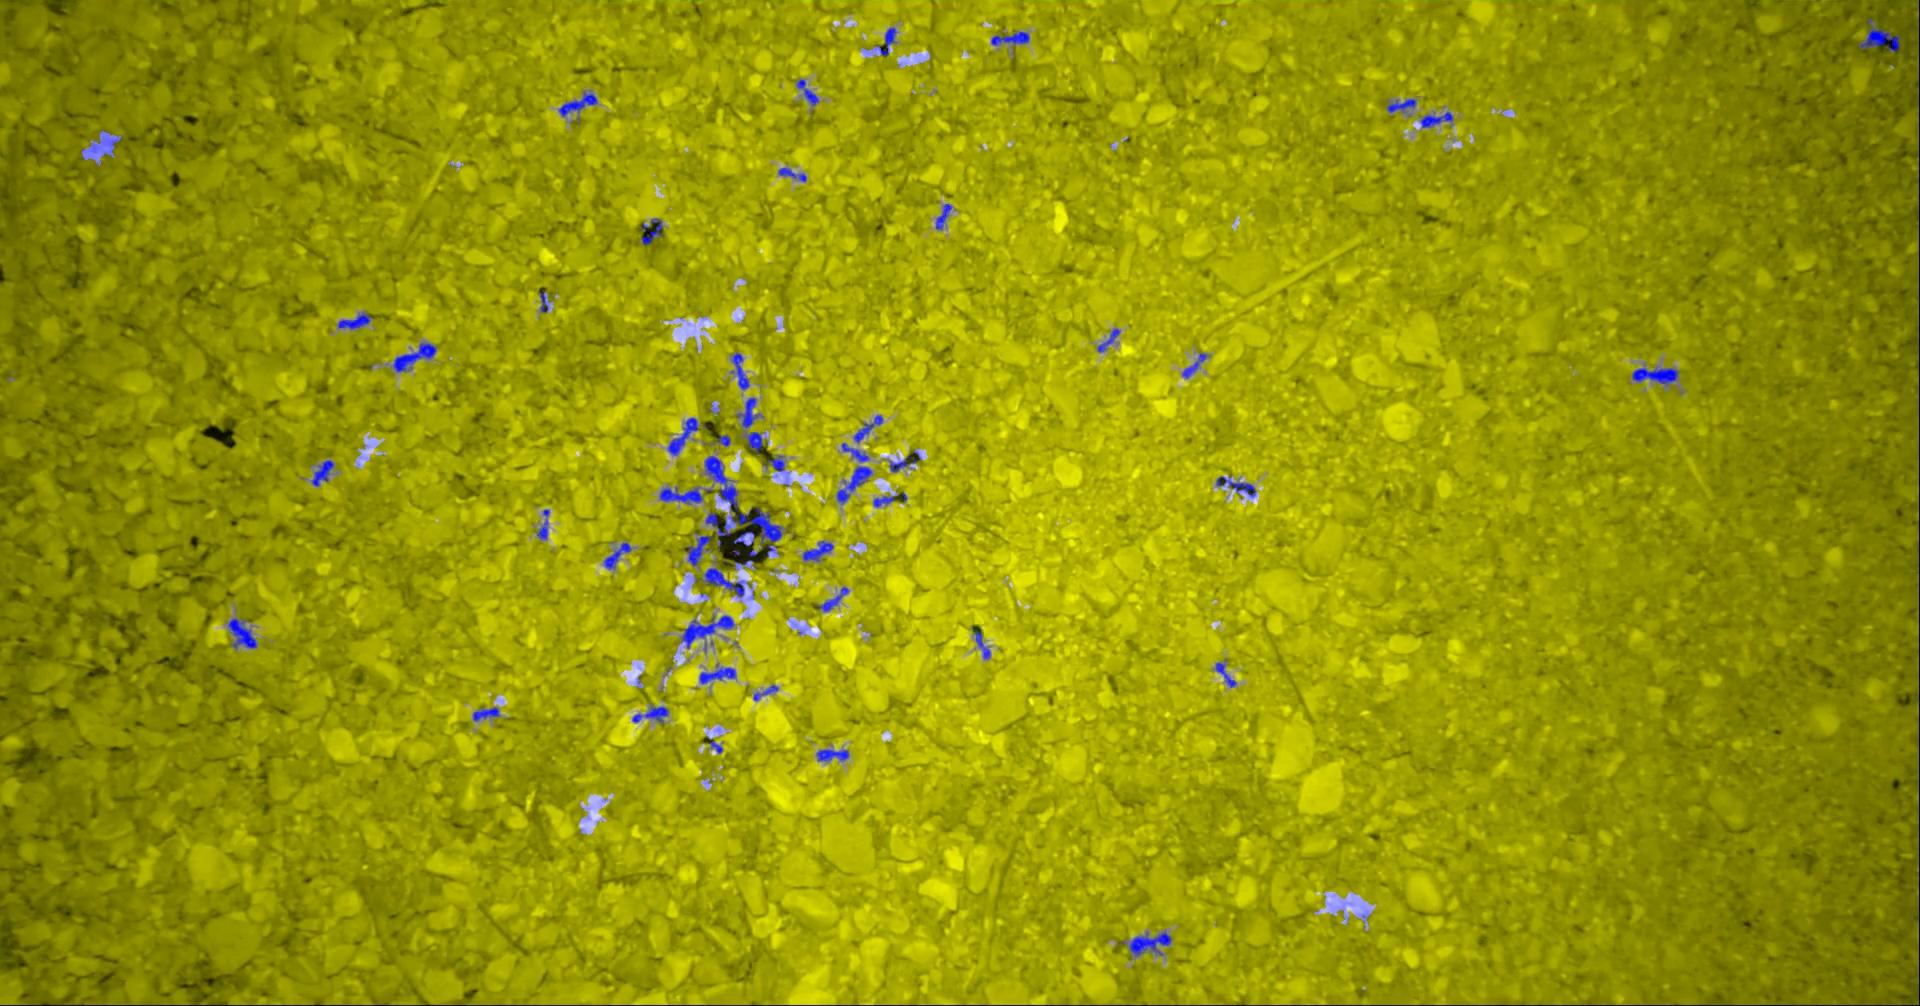ant: (681, 615, 734, 648), (1858, 17, 1900, 52), (836, 466, 871, 503), (392, 342, 436, 371), (667, 417, 698, 453), (703, 567, 743, 596), (1129, 931, 1171, 955), (705, 512, 730, 550), (557, 91, 597, 116), (731, 530, 757, 565), (229, 617, 257, 648), (1630, 367, 1677, 385), (853, 414, 883, 442), (817, 586, 848, 611), (1215, 476, 1255, 495), (687, 535, 711, 565), (659, 486, 702, 503), (603, 542, 631, 568), (730, 352, 749, 389), (698, 664, 735, 683), (737, 398, 759, 427), (803, 540, 833, 561), (639, 218, 662, 245), (311, 459, 333, 486), (1182, 353, 1206, 377), (796, 79, 818, 105), (1096, 328, 1119, 352), (973, 627, 990, 658), (632, 706, 668, 721), (990, 30, 1029, 44), (1420, 111, 1451, 127), (877, 27, 895, 56), (1215, 662, 1236, 687), (337, 312, 370, 328), (872, 492, 905, 507), (841, 443, 869, 461), (889, 455, 916, 471), (1385, 98, 1416, 112), (935, 203, 951, 229), (777, 166, 806, 180), (753, 683, 777, 700), (745, 431, 762, 453), (472, 708, 499, 721), (536, 509, 549, 539), (817, 749, 848, 760), (767, 455, 783, 471), (538, 291, 547, 312)
